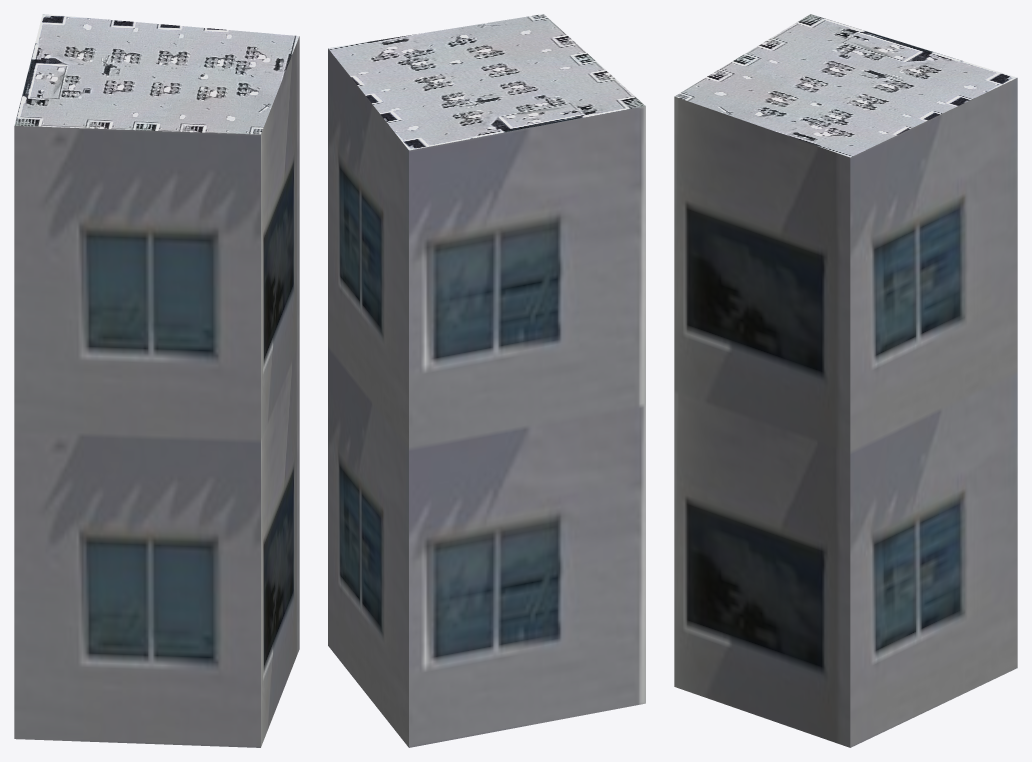
The model's file is ResTex__860.fbx.
3 renders of one model, left to right at view 1: azimuth 30°, elevation 25°; view 2: azimuth 150°, elevation 25°; view 3: azimuth 270°, elevation 25°, orthographic. The views are drawn at different scales.
Visible parts, largest first — view 1: CityEngineMaterial_10_m, CityEngineMaterial_m; view 2: CityEngineMaterial_10_m, CityEngineMaterial_m; view 3: CityEngineMaterial_10_m, CityEngineMaterial_m.
Part boxes in pixels (bbox=[...]): CityEngineMaterial_10_m: bbox=[14, 36, 299, 747]; CityEngineMaterial_m: bbox=[14, 14, 299, 134]; CityEngineMaterial_10_m: bbox=[328, 48, 645, 747]; CityEngineMaterial_m: bbox=[328, 14, 645, 150]; CityEngineMaterial_10_m: bbox=[674, 78, 1017, 747]; CityEngineMaterial_m: bbox=[674, 14, 1016, 157].
Size of the model in its own units: 3.13 by 6 by 3.16.
Materials: 2 (2 with a texture image).
